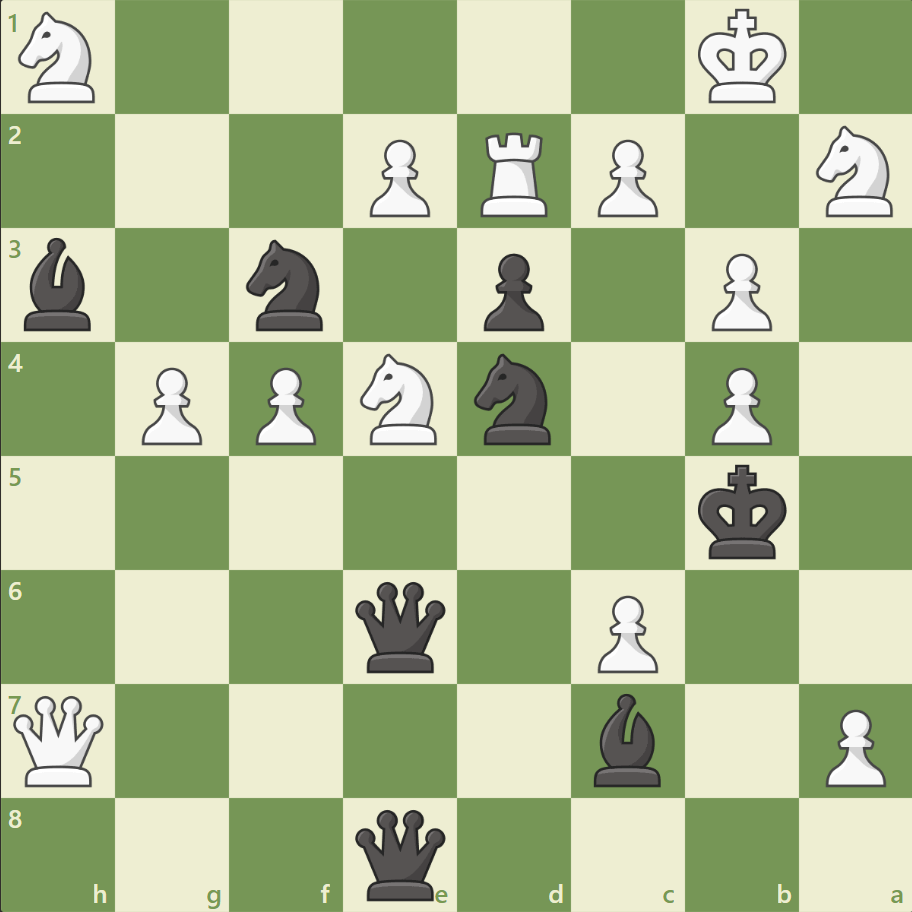K: (692, 4, 792, 112)
N: (351, 348, 449, 450), (11, 7, 108, 110), (806, 121, 903, 223)
P: (701, 359, 776, 450), (247, 359, 322, 450), (133, 359, 208, 450), (701, 246, 776, 337), (815, 700, 889, 791), (588, 586, 662, 677), (588, 132, 662, 223), (361, 132, 435, 223)
Q: (10, 690, 109, 789)
R: (473, 125, 556, 222)
b: (585, 687, 669, 790), (17, 233, 101, 336)
k: (692, 458, 792, 566)
n: (238, 234, 335, 337), (465, 348, 562, 450)
p: (474, 246, 549, 337)
q: (351, 576, 450, 676), (351, 804, 450, 903)
